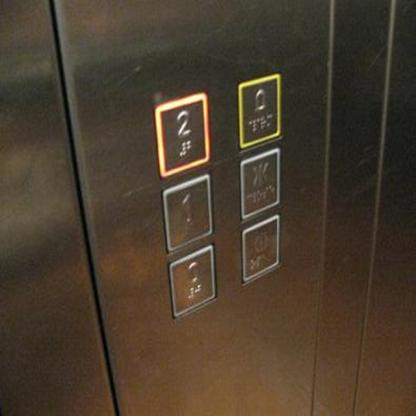0: (166, 246, 218, 318)
1: (161, 174, 213, 246)
2: (155, 88, 210, 176)
alarm: (235, 71, 282, 150)
close: (238, 149, 281, 214)
open: (241, 215, 280, 279)
